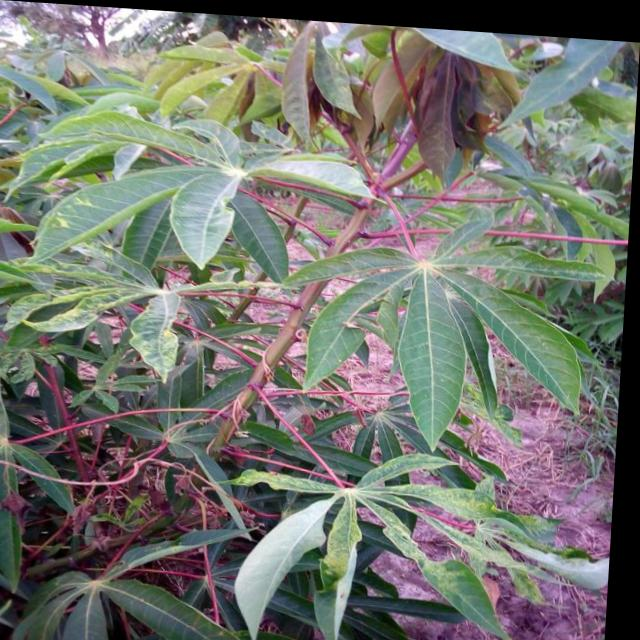Mosaico: (218, 461, 540, 635), (7, 243, 302, 348), (383, 30, 490, 174)
